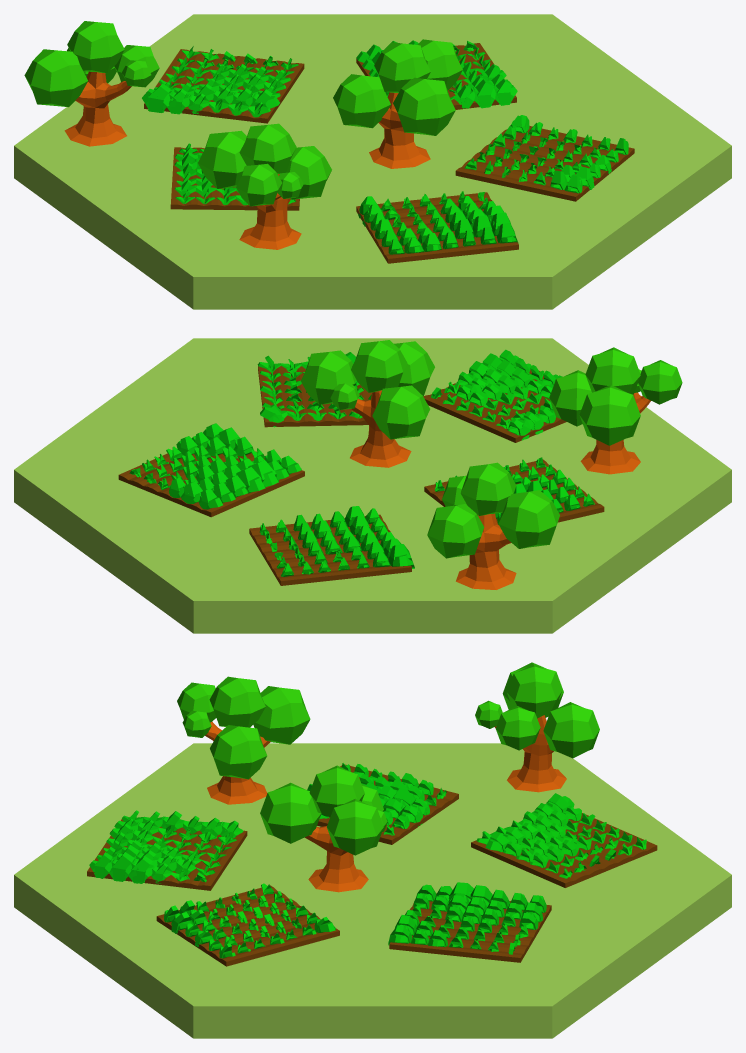
The model's file is Farm.fbx.
The picture shows the model from 3 angles, top to bottom: view 1: azimuth 30°, elevation 25°; view 2: azimuth 150°, elevation 25°; view 3: azimuth 270°, elevation 25°; orthographic projection.
Parts seen in each view (by area): view 1: Cylinder; view 2: Cylinder; view 3: Cylinder.
Boxes of the visible parts, x1=… form: Cylinder: x1=14, y1=14, x2=731, y2=309; Cylinder: x1=14, y1=338, x2=731, y2=633; Cylinder: x1=14, y1=662, x2=731, y2=1038.
Bounding box in the file's own units: 173 × 44.58 × 200.
